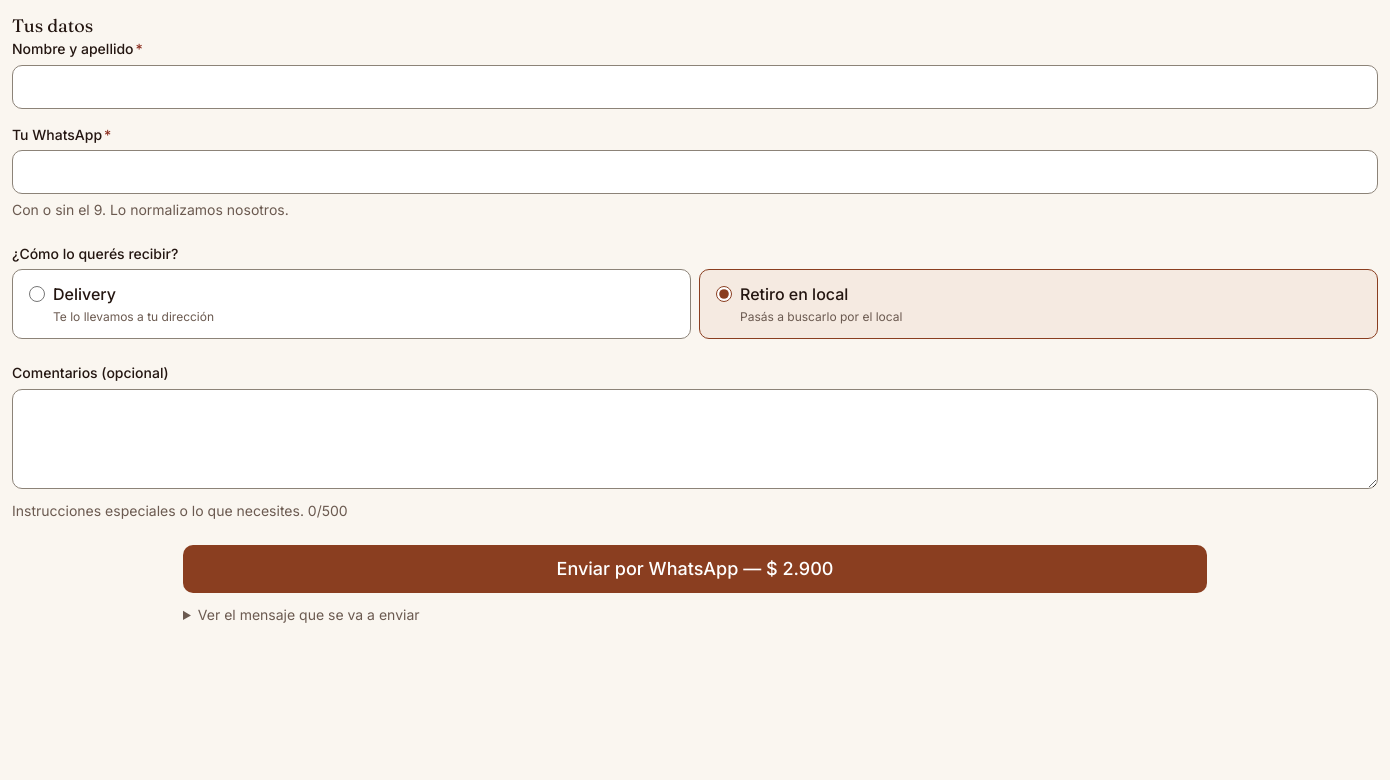
Test: CheckoutForm › debe mostrar la previsualización del teléfono normalizado en vivo
This screenshot has width=1390, height=780.
Type "261 555 1234" into the field labelled "Tu WhatsApp*".
click(695, 172); type("261 555 1234")  # box x1=12 y1=150 x2=1378 y2=194
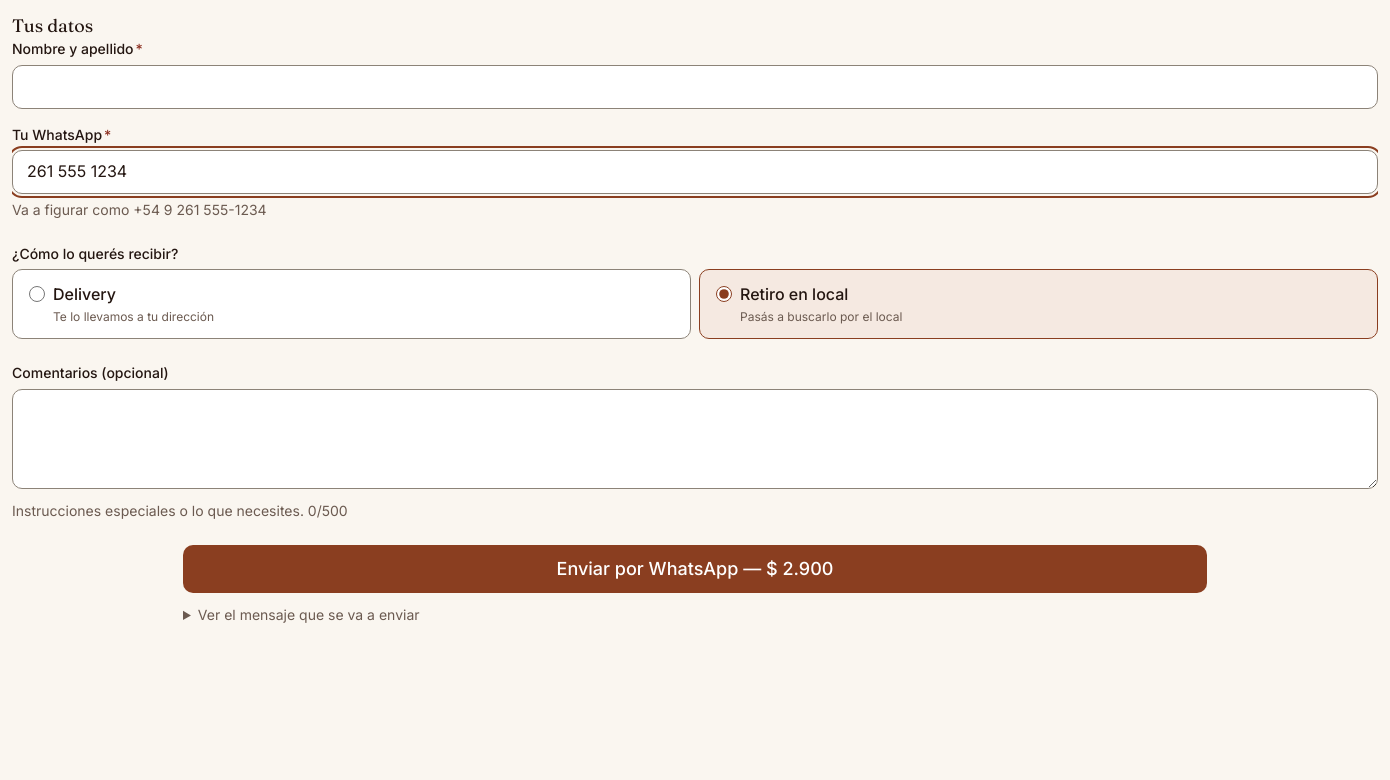
Check: the text "Va a figurar como +54 9 261 555-1234" is shown, box x1=12 y1=201 x2=267 y2=218
